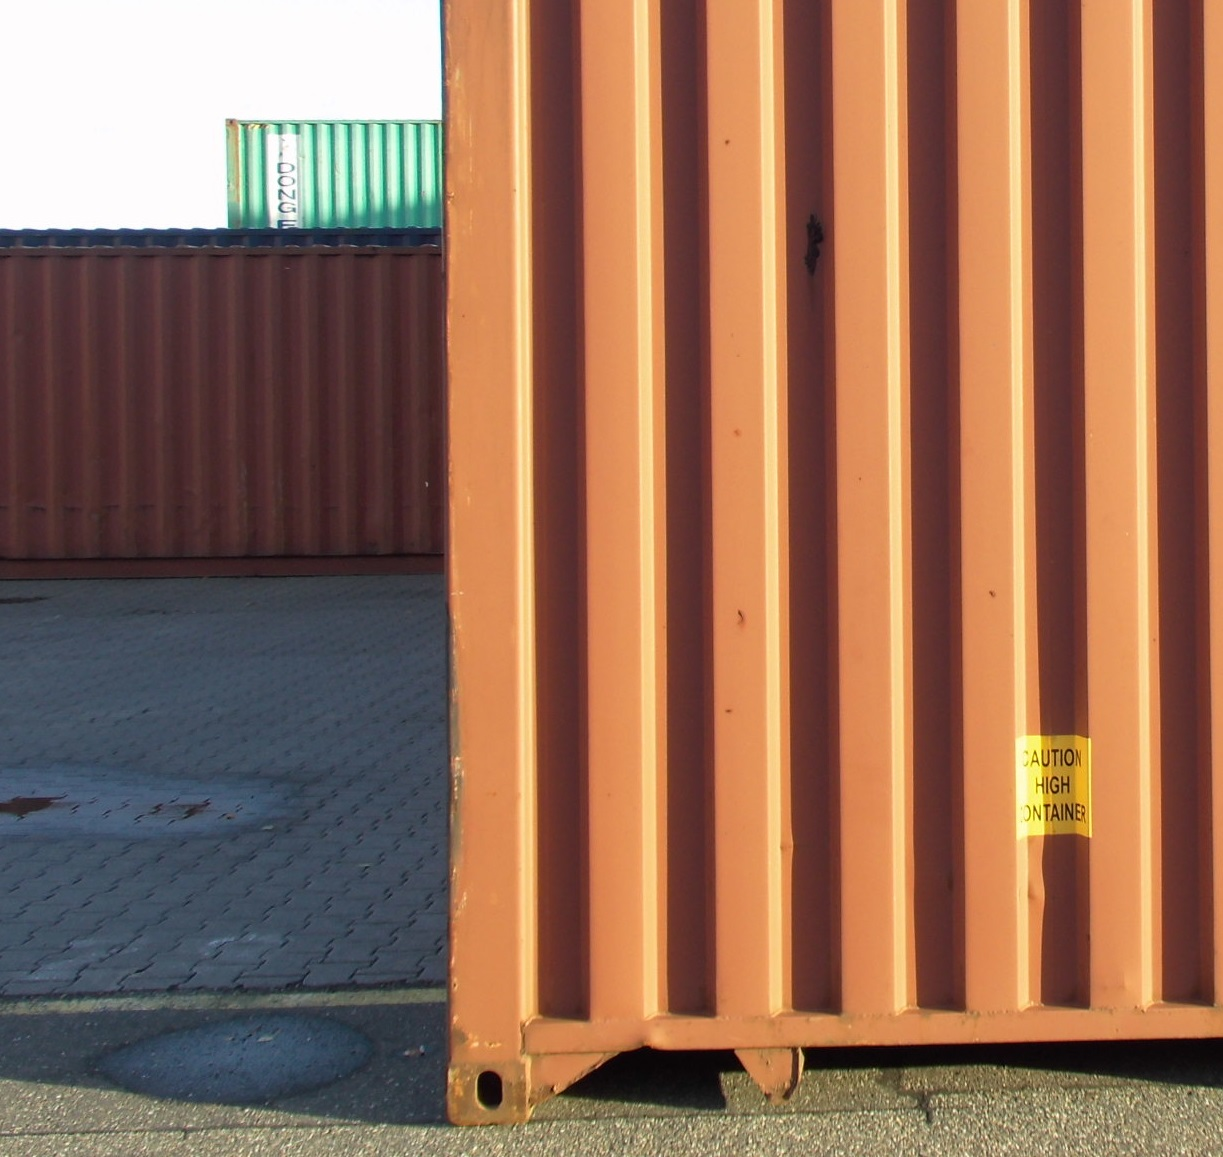container_no_door: (453, 7, 1223, 1133)
